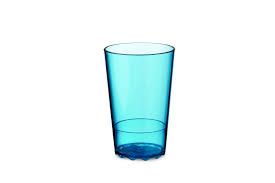glass: (101, 37, 177, 163)
